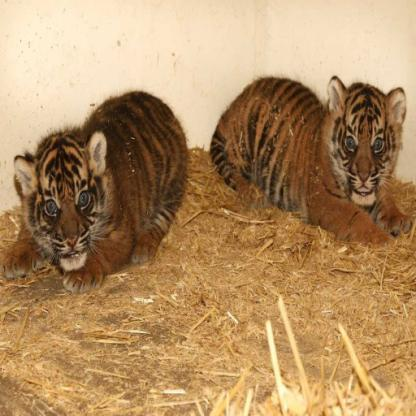Tiger: (200, 46, 415, 252), (14, 68, 188, 287)
